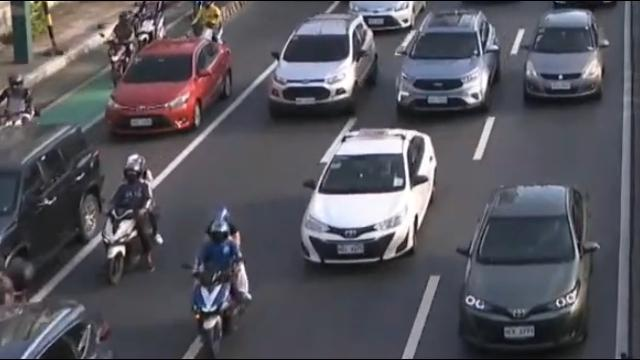car: (453, 179, 602, 353), (297, 121, 439, 271), (0, 124, 108, 294), (103, 35, 237, 137), (263, 10, 384, 119), (393, 9, 505, 116), (520, 4, 616, 103), (0, 300, 115, 360), (347, 1, 425, 33)
motorcycle: (181, 208, 249, 360), (100, 153, 160, 291), (0, 71, 42, 140), (100, 12, 138, 84), (187, 0, 224, 44), (135, 0, 165, 46)
